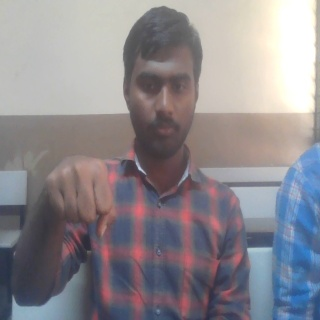Face: (122, 5, 204, 162)
Yes: (38, 154, 114, 239)
